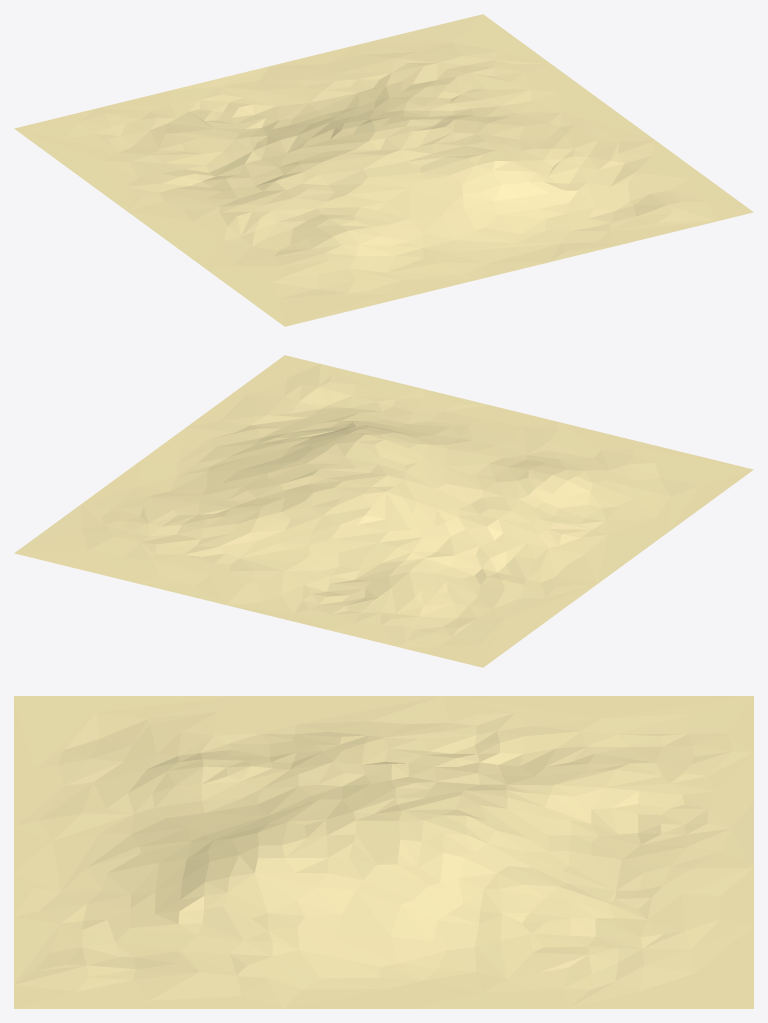
The model's file is Terrain_s_04.fbx.
The picture shows the model from 3 angles, top to bottom: view 1: azimuth 30°, elevation 25°; view 2: azimuth 150°, elevation 25°; view 3: azimuth 270°, elevation 25°; orthographic projection. The views are drawn at different scales.
Parts seen in each view (by area): view 1: Terrain_s_04; view 2: Terrain_s_04; view 3: Terrain_s_04.
Boxes of the visible parts, bbox=[...] form: Terrain_s_04: bbox=[14, 14, 753, 326]; Terrain_s_04: bbox=[14, 355, 753, 667]; Terrain_s_04: bbox=[14, 696, 753, 1008].
Size of the model in its own units: 5000 by 320 by 5000.
